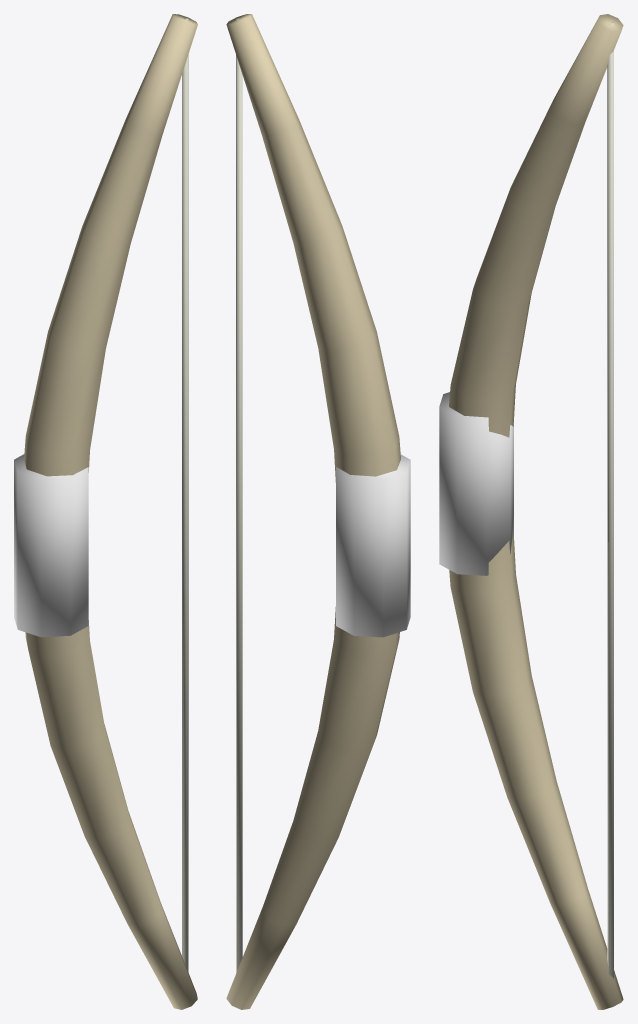
Rendered from hallowed_repeater.glb.
3 renders of one model, left to right at view 1: azimuth 30°, elevation 25°; view 2: azimuth 150°, elevation 25°; view 3: azimuth 330°, elevation 25°, orthographic.
Parts seen in each view (by area): view 1: hallowed_repeater_v0; view 2: hallowed_repeater_v0; view 3: hallowed_repeater_v0.
Part boxes in pixels (x1,y1,x2,y2): hallowed_repeater_v0: (14,14,197,1009); hallowed_repeater_v0: (226,14,410,1009); hallowed_repeater_v0: (439,14,623,1009).
Bounding box in the file's own units: 0.2132 × 1.13 × 0.08.
